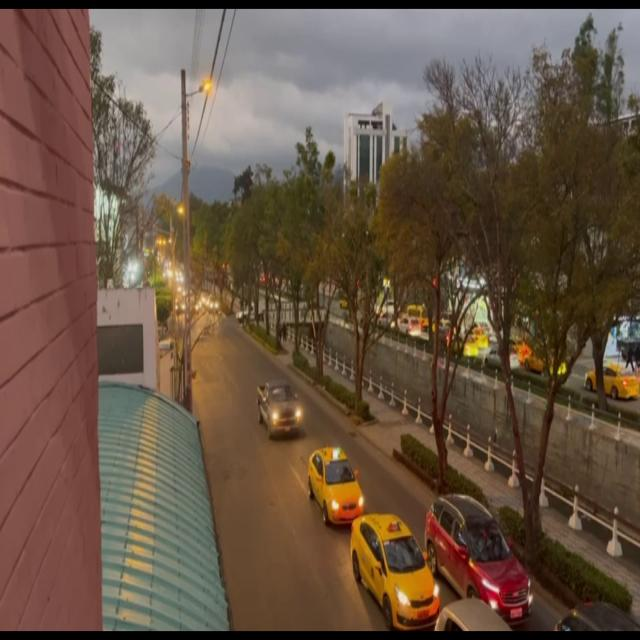CMT: (255, 380, 302, 438)
SED: (350, 519, 433, 629), (313, 452, 367, 524)
SUV: (434, 501, 533, 622)
